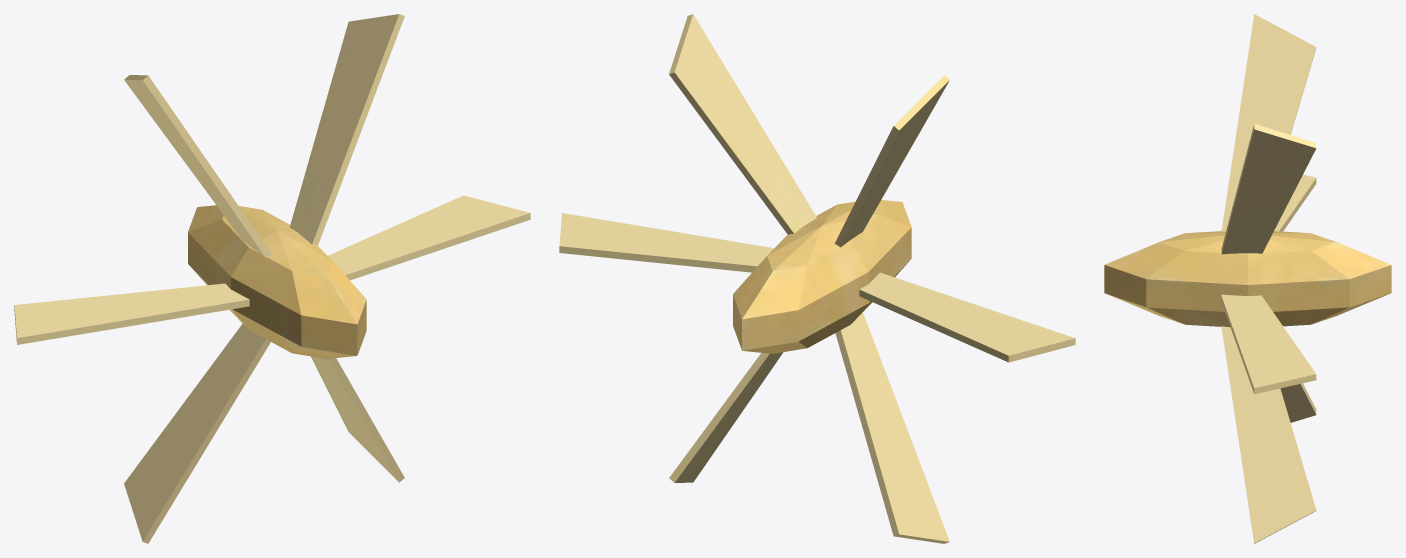
File: jup_aeromite.glb
3 renders of one model, left to right at view 1: azimuth 30°, elevation 25°; view 2: azimuth 150°, elevation 25°; view 3: azimuth 270°, elevation 25°, orthographic. The views are drawn at different scales.
Visible parts, largest first — view 1: aeromite_body; view 2: aeromite_body; view 3: aeromite_body.
Part boxes in pixels (bbox=[...]): aeromite_body: bbox=[14, 14, 530, 543]; aeromite_body: bbox=[559, 14, 1075, 543]; aeromite_body: bbox=[1104, 14, 1391, 543].
Size of the model in its own units: 0.0316 by 0.0276 by 0.0171.
Materials: 2 (2 with a texture image).
